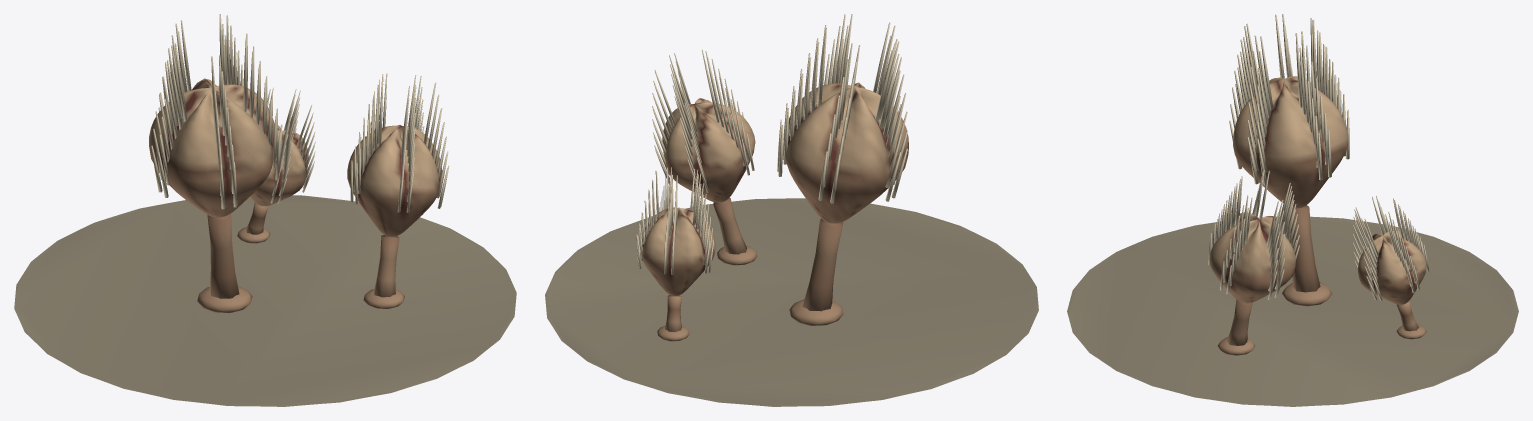
Rendered from Deltoblastus.fbx.
3 views of the same model, side by side, from view 1: azimuth 30°, elevation 25°; view 2: azimuth 150°, elevation 25°; view 3: azimuth 270°, elevation 25° (orthographic). The views are drawn at different scales.
Visible parts, largest first — view 1: Deltoblastus; view 2: Deltoblastus; view 3: Deltoblastus.
Part boxes in pixels (box(x1,y1,x2,y2)): Deltoblastus: box(14, 14, 516, 406); Deltoblastus: box(545, 14, 1038, 406); Deltoblastus: box(1067, 14, 1518, 406).
Size of the model in its own units: 1.6 by 1.04 by 1.6.
